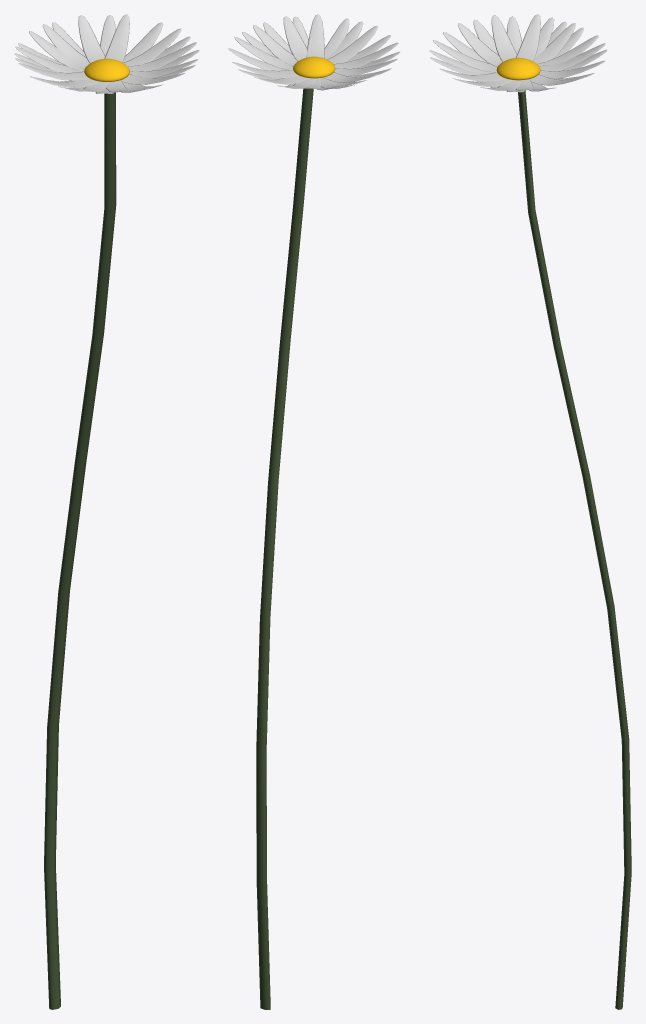
File: DaisyLongStem.fbx
3 views of the same model, side by side, from view 1: azimuth 30°, elevation 25°; view 2: azimuth 150°, elevation 25°; view 3: azimuth 270°, elevation 25° (orthographic). The views are drawn at different scales.
Parts seen in each view (by area): view 1: Daisy; view 2: Daisy; view 3: Daisy.
Part boxes in pixels (x1=…): Daisy: x1=14, y1=14, x2=199, y2=1009; Daisy: x1=228, y1=14, x2=400, y2=1009; Daisy: x1=429, y1=14, x2=631, y2=1009.
Size of the model in its own units: 10 by 59.07 by 11.34.
